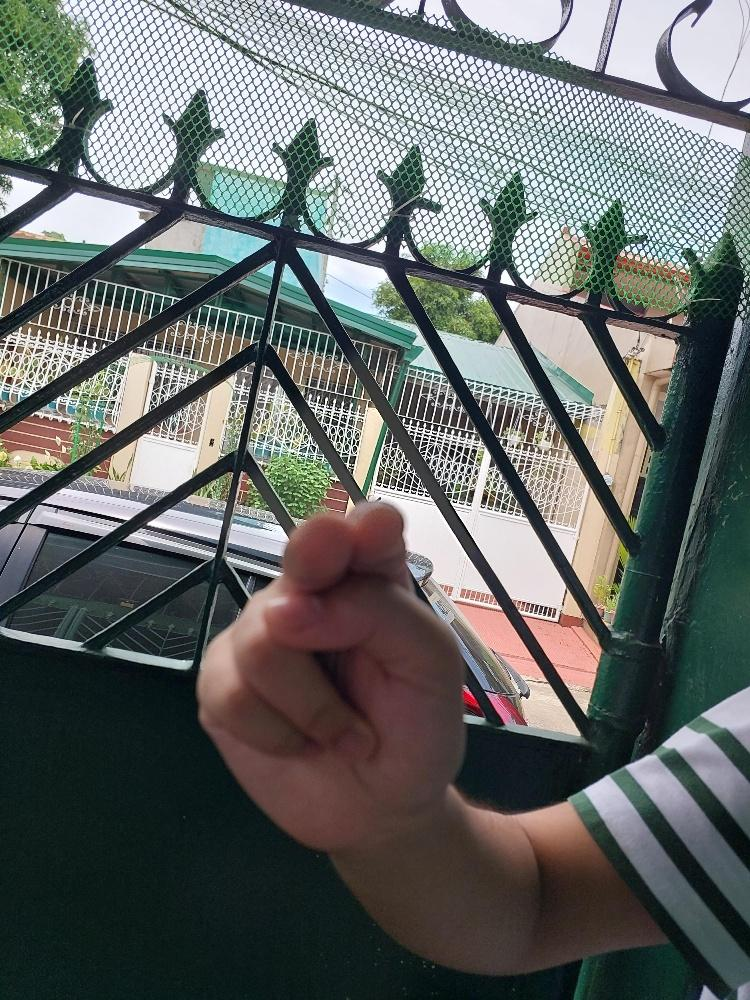n: (194, 495, 471, 850)
